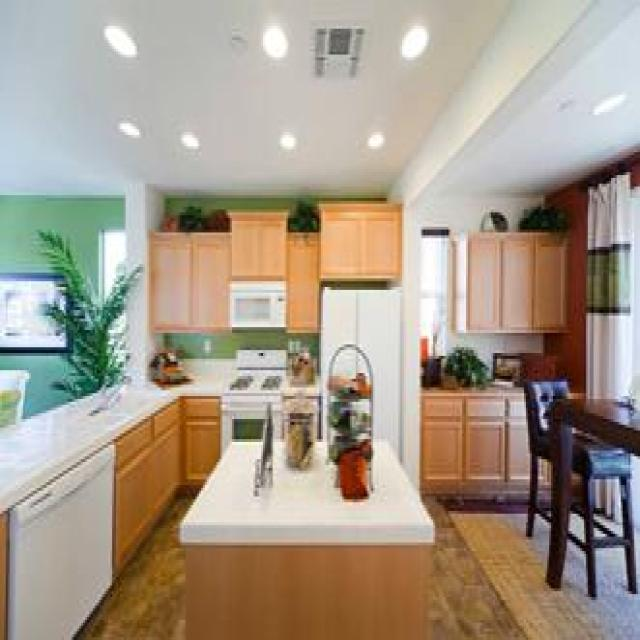dishwasher: (6, 442, 108, 637)
